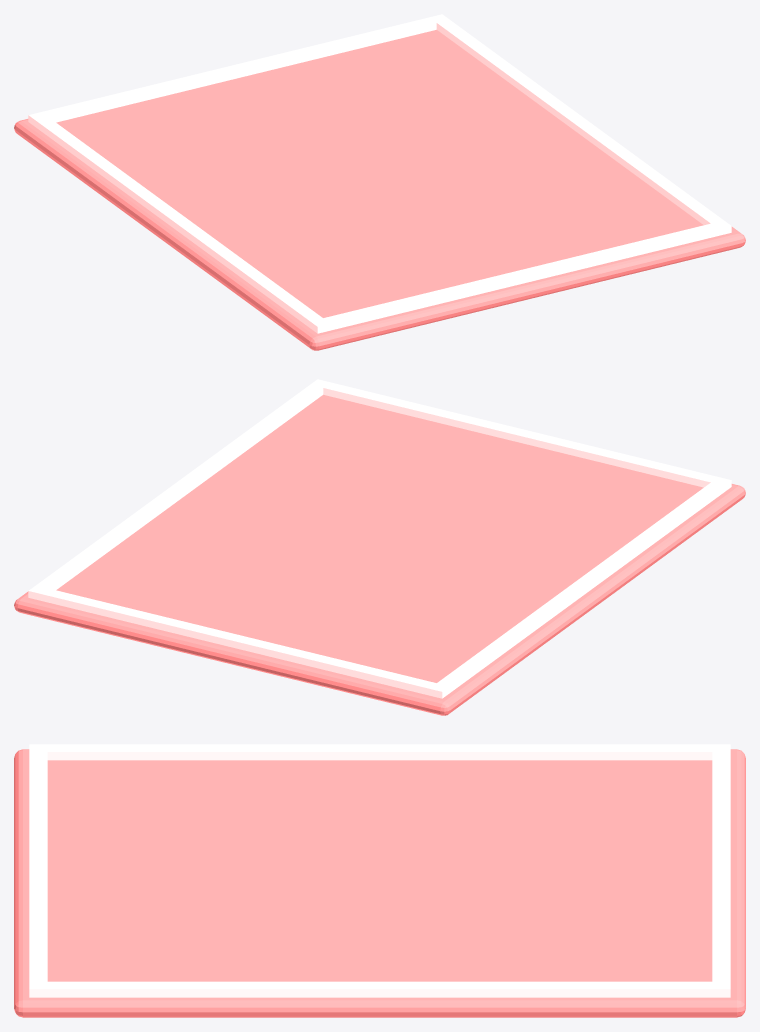
Rendered from mask-panel.glb.
3 views of the same model, one above another, from view 1: azimuth 30°, elevation 25°; view 2: azimuth 150°, elevation 25°; view 3: azimuth 270°, elevation 25° (orthographic). The views are drawn at different scales.
Visible parts, largest first — view 1: MaskPanel, Edge_B, Edge_T, Edge_R, Edge_L; view 2: MaskPanel, Edge_T, Edge_B, Edge_L, Edge_R; view 3: MaskPanel, Edge_R, Edge_L, Edge_B, Edge_T.
Part boxes in pixels (box(x1,y1,x2,y2)): MaskPanel: box(14, 29, 745, 350); Edge_B: box(310, 220, 731, 333); Edge_T: box(28, 14, 448, 126); Edge_R: box(429, 14, 731, 235); Edge_L: box(28, 112, 330, 332); MaskPanel: box(14, 394, 745, 715); Edge_T: box(28, 585, 446, 698); Edge_B: box(311, 379, 731, 492); Edge_L: box(429, 480, 730, 698); Edge_R: box(28, 379, 329, 600); MaskPanel: box(14, 749, 745, 1017); Edge_R: box(30, 981, 730, 997); Edge_L: box(29, 744, 730, 760); Edge_B: box(29, 744, 47, 997); Edge_T: box(712, 744, 730, 997).
Bounding box in the file's own units: 1 × 0.045 × 1.2.
